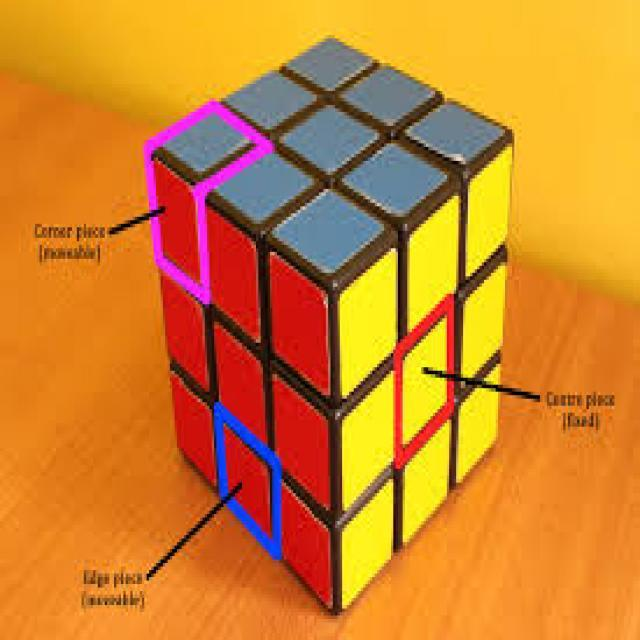Rub: (141, 34, 515, 614)
